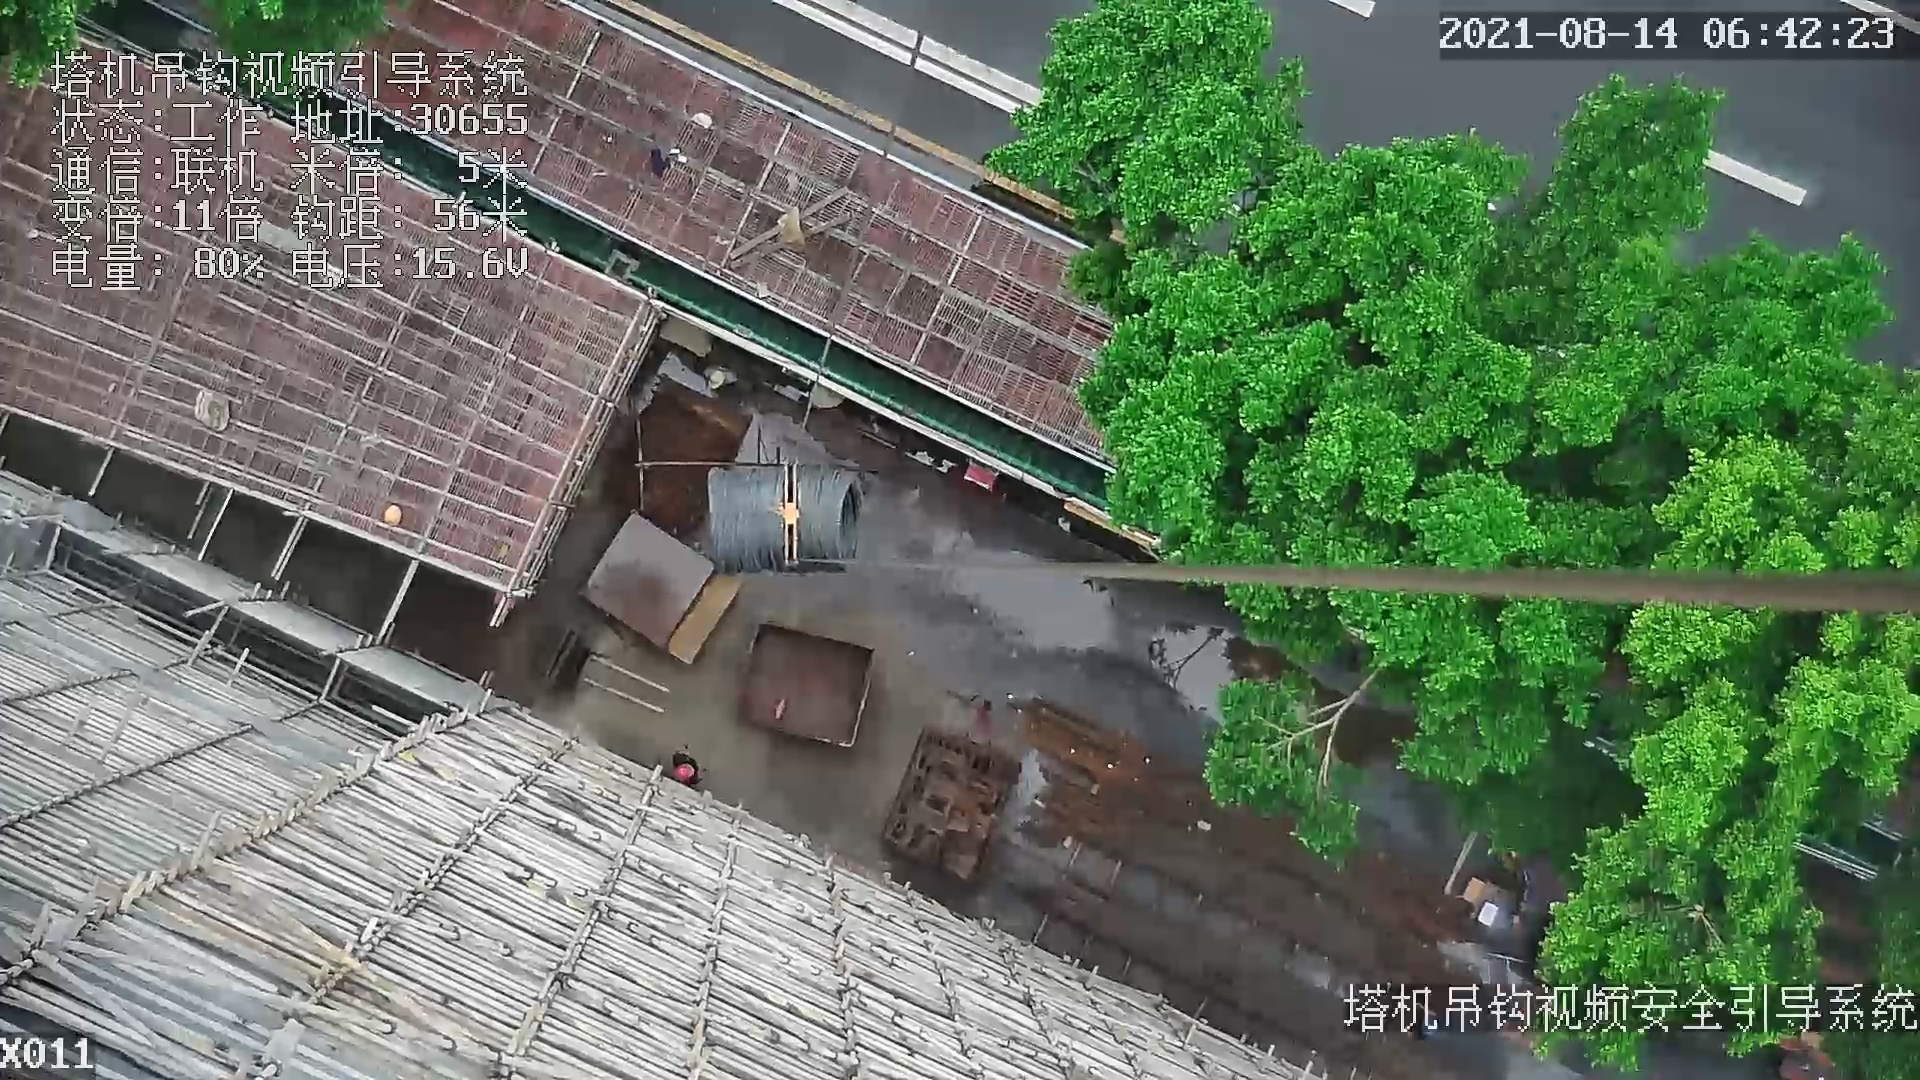helmet: (672, 766, 689, 783)
hook: (768, 449, 809, 568)
person: (670, 748, 708, 791)
